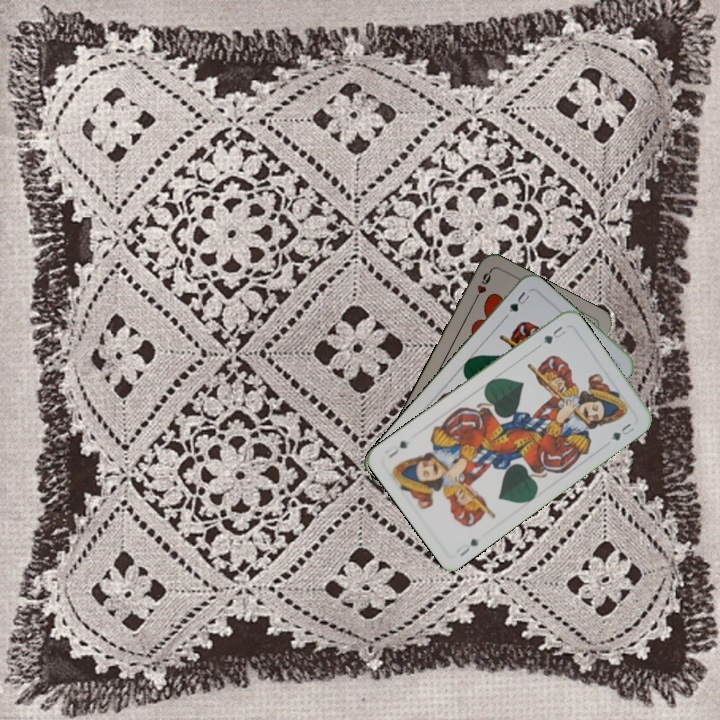GU: (501, 287, 532, 320), (538, 322, 569, 347), (452, 534, 482, 559)
H9: (470, 267, 494, 305)
